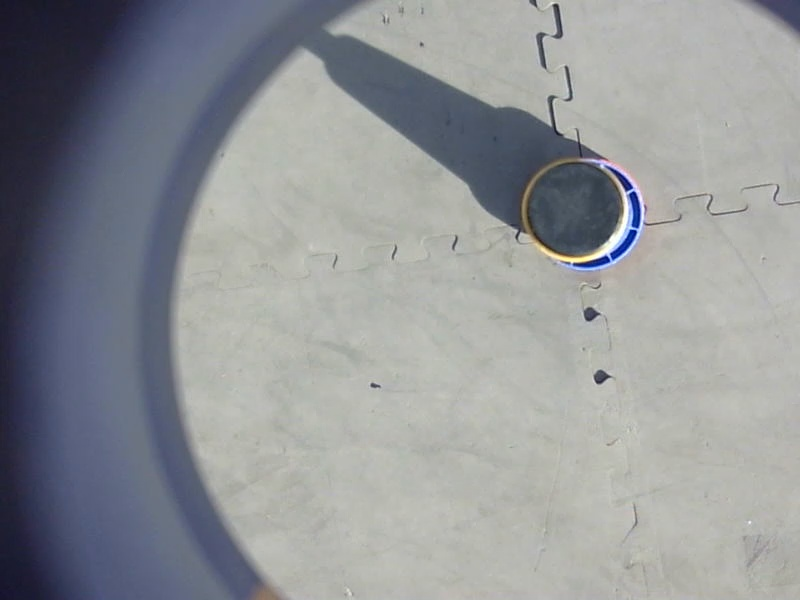tip: (512, 153, 637, 269)
